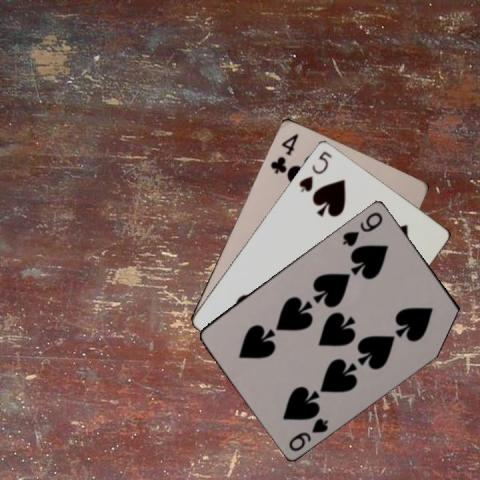4c: (267, 130, 300, 175)
5s: (296, 148, 333, 194)
9s: (339, 209, 385, 247), (285, 414, 330, 452)
